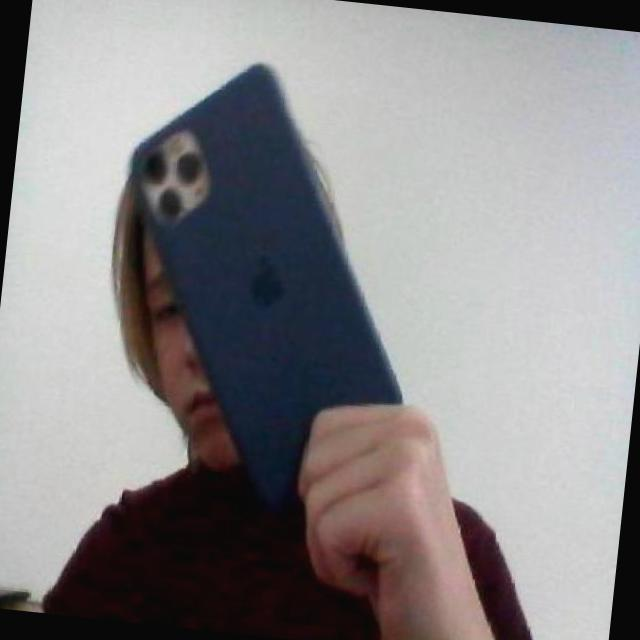lens: (139, 130, 222, 224)
phone: (126, 61, 406, 502)
